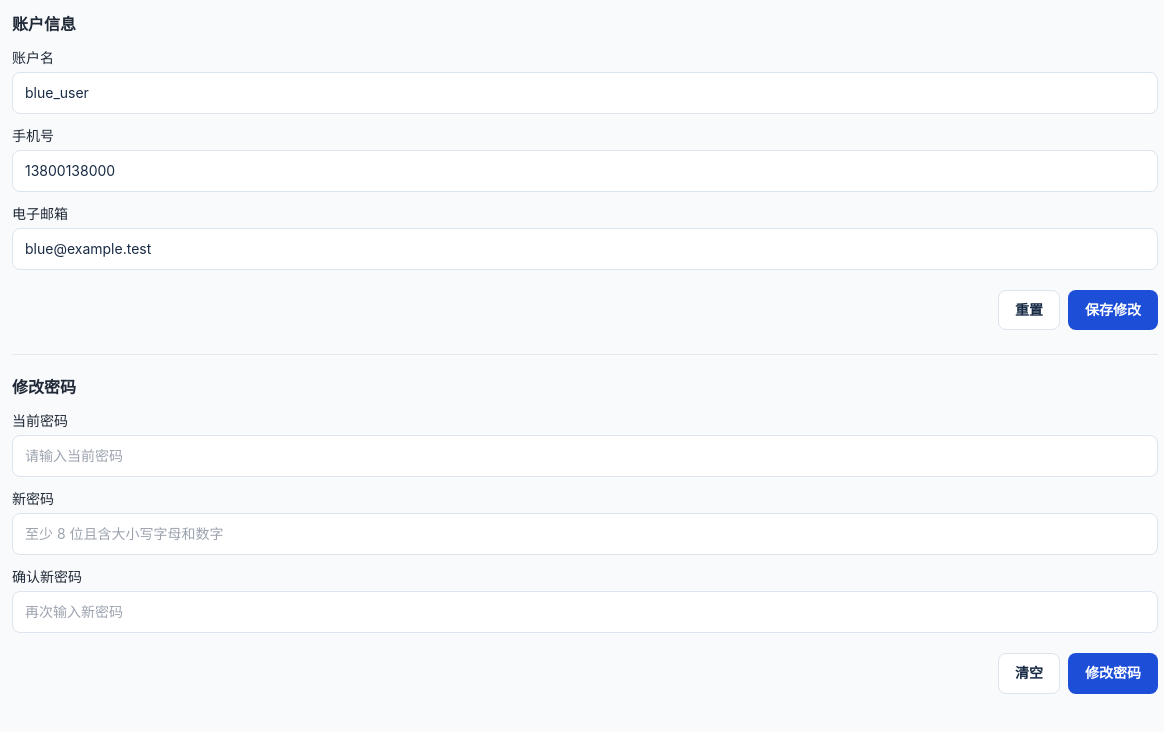
Test: account form with the real API client and auth store › clears drafts for a parseable PATCH response from another owner
Replace the text in the field with id "settings-account-username" with "draft_user" at (585, 93), box [12, 72, 1158, 114]
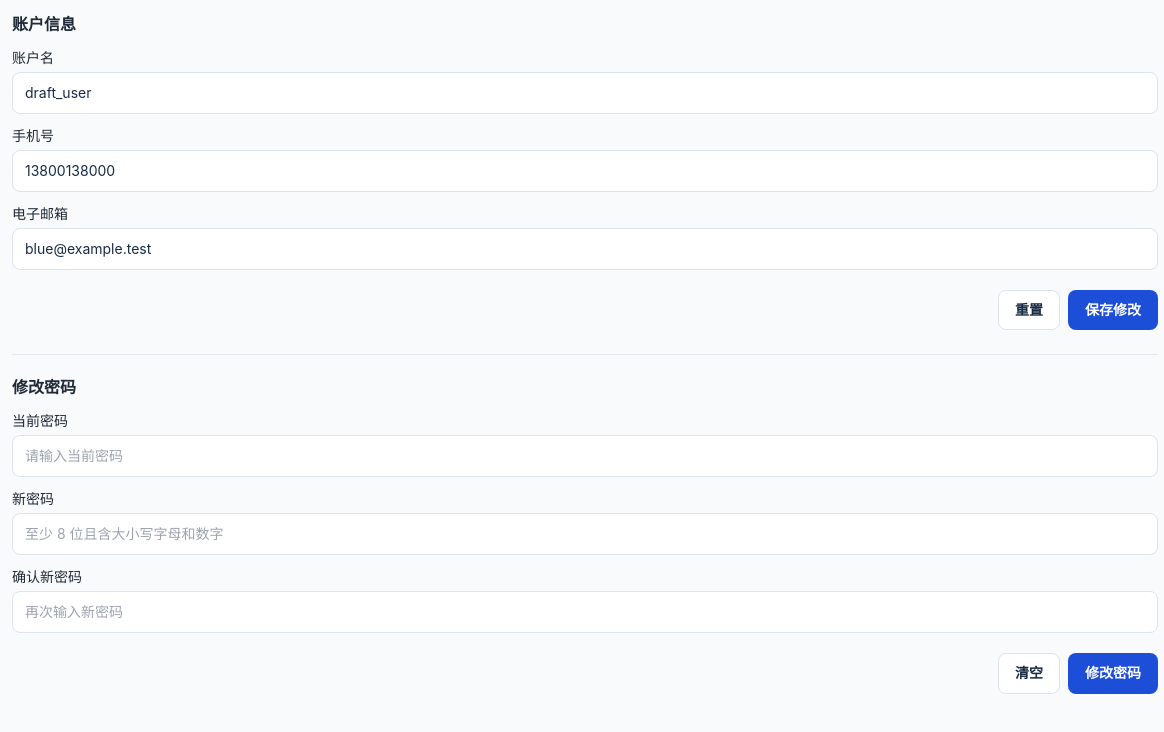
Type "CurrentA1" into the password field with id "settings-account-current-password" at (585, 456), box [12, 435, 1158, 477]
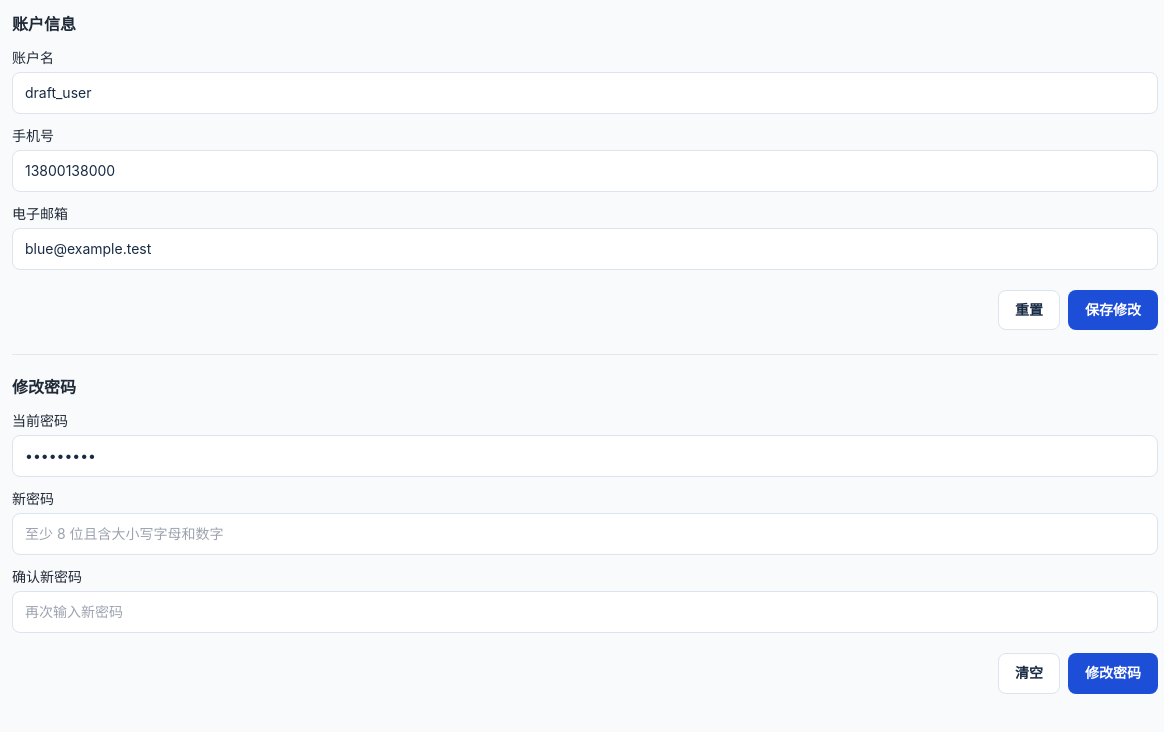
Type "NewPassword1" into the password field with id "settings-account-new-password" at (585, 534), box [12, 513, 1158, 555]
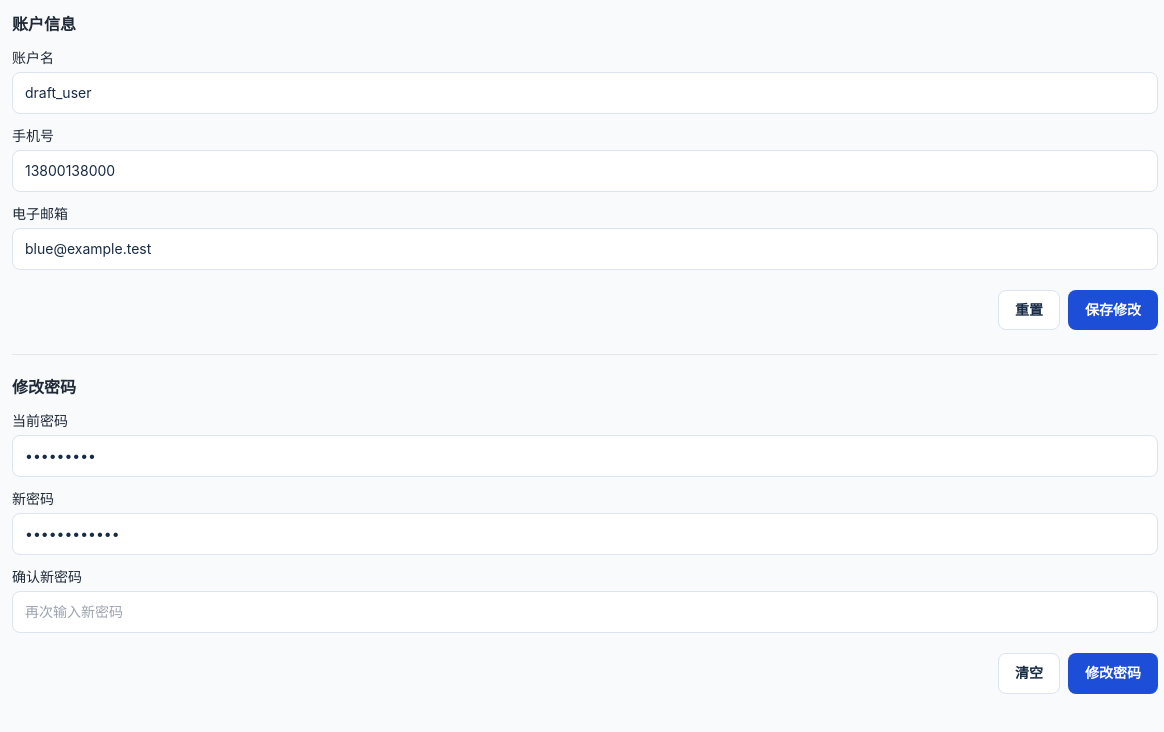
Type "NewPassword1" into the password field with id "settings-account-confirm-password" at (585, 612), box [12, 591, 1158, 633]
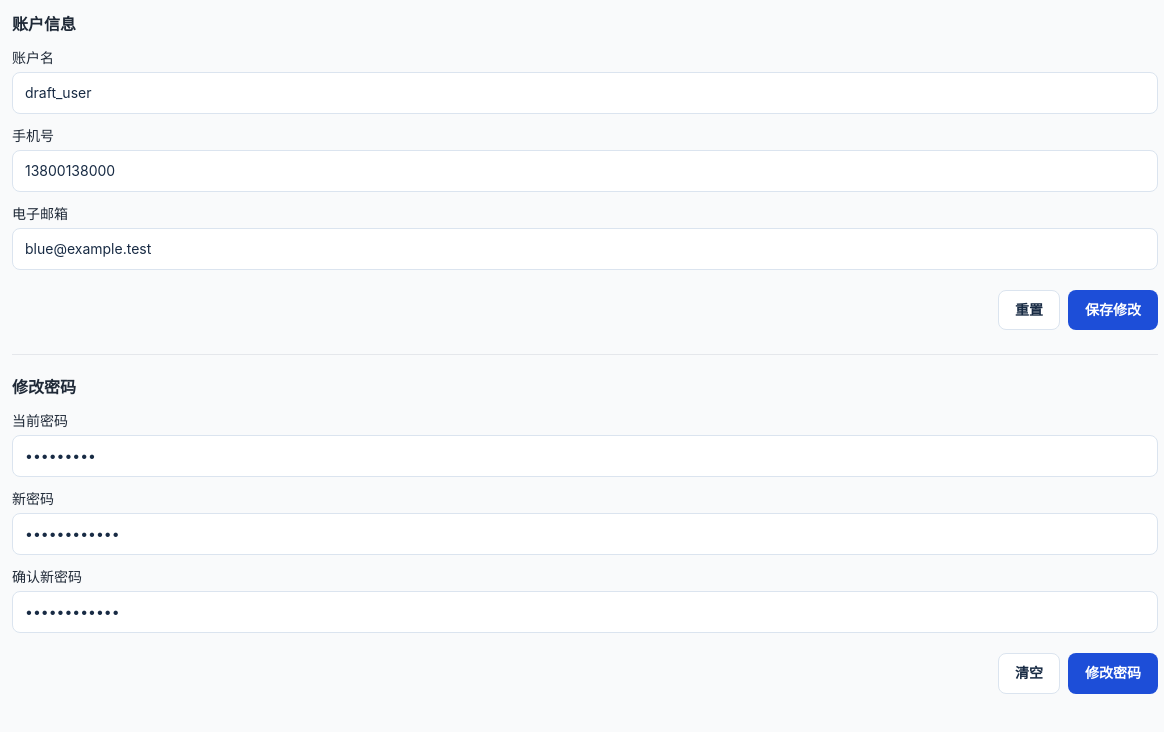
Click the button "保存修改" at (1113, 310), box [1068, 290, 1158, 330]
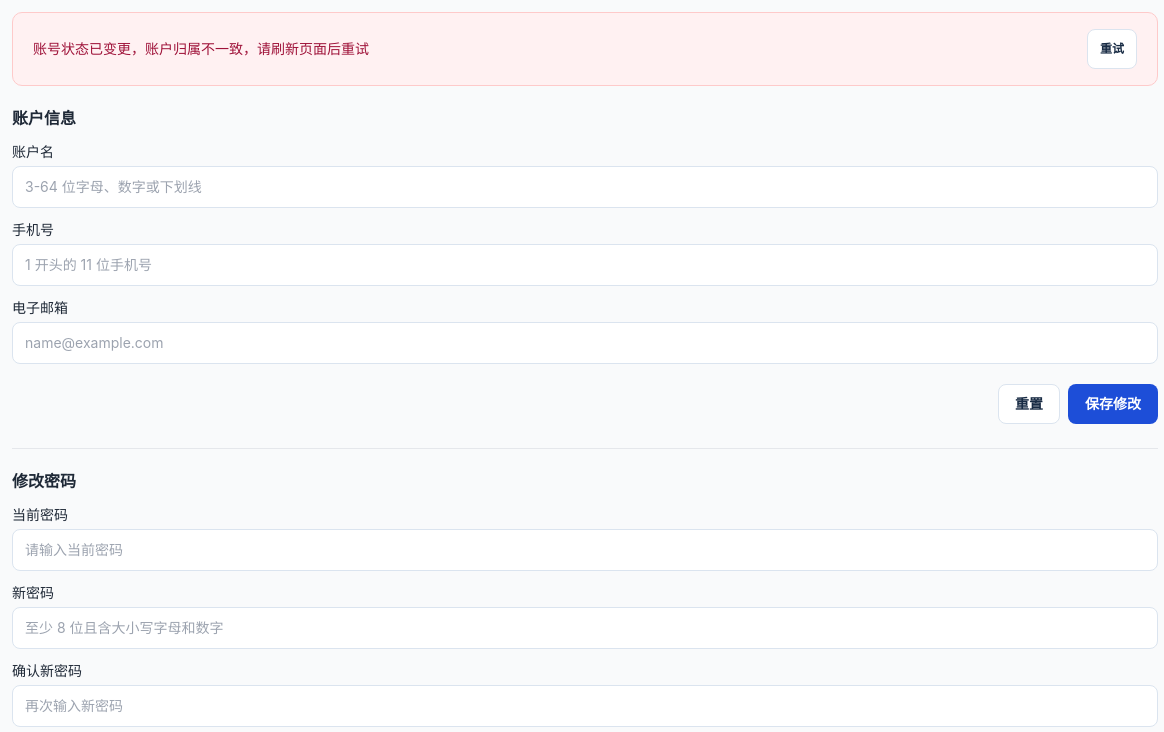
Now the message "账号状态已变更，账户归属不一致，请刷新页面后重试 重试" is shown, box [12, 12, 1158, 86]
Now the field with id "settings-account-username" is empty, box [12, 166, 1158, 208]
Now the password field with id "settings-account-current-password" is empty, box [12, 529, 1158, 571]
